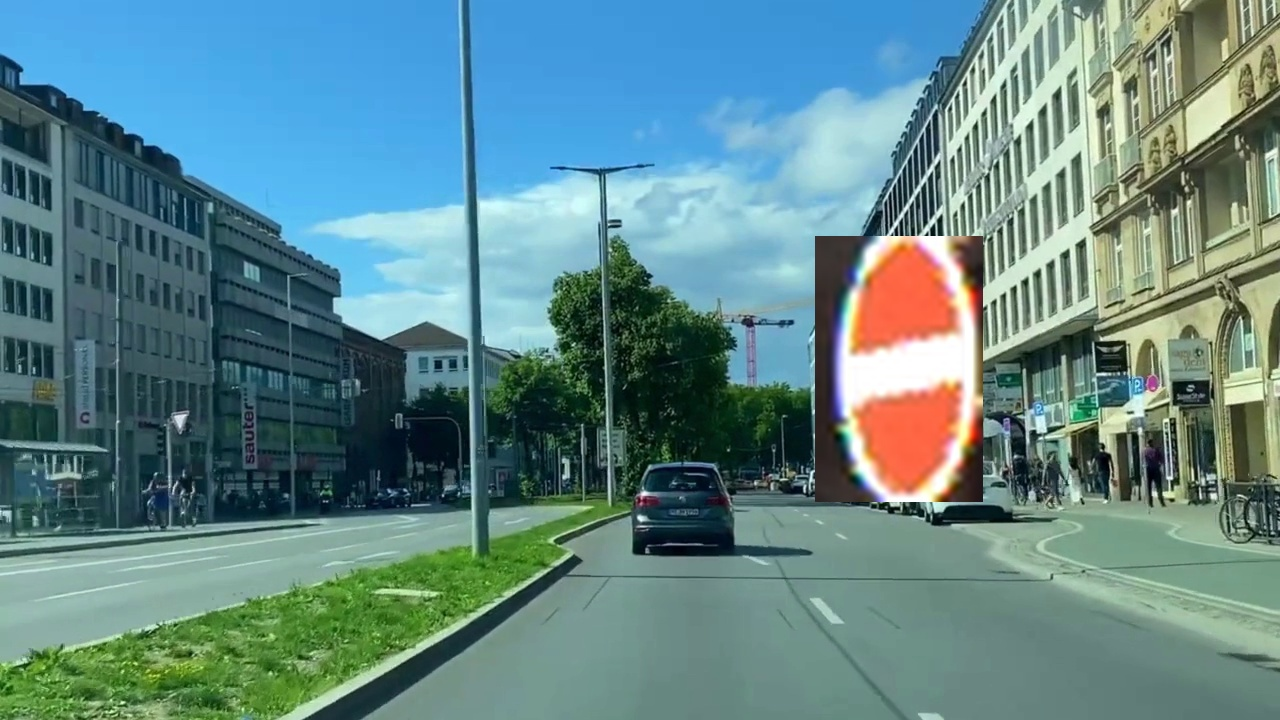No entry: (815, 236, 983, 502)
